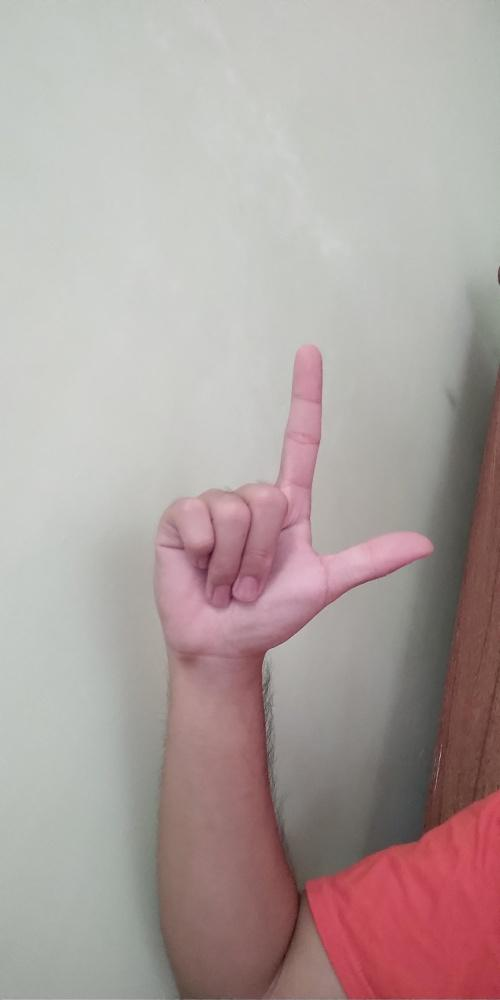l: (150, 341, 436, 657)
